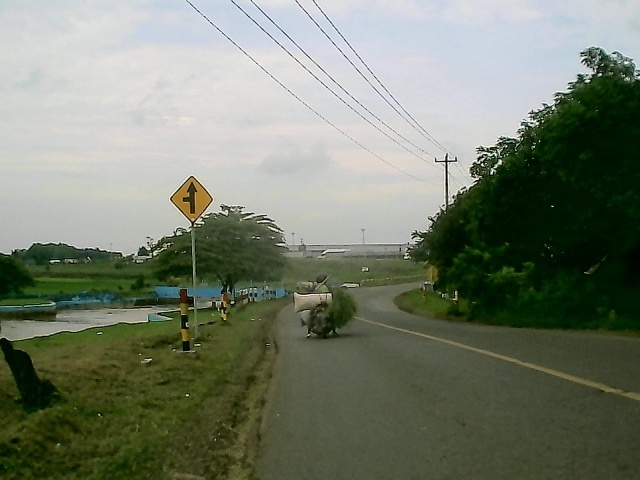Simpang kiri dengan prioritas: (169, 174, 216, 224)
